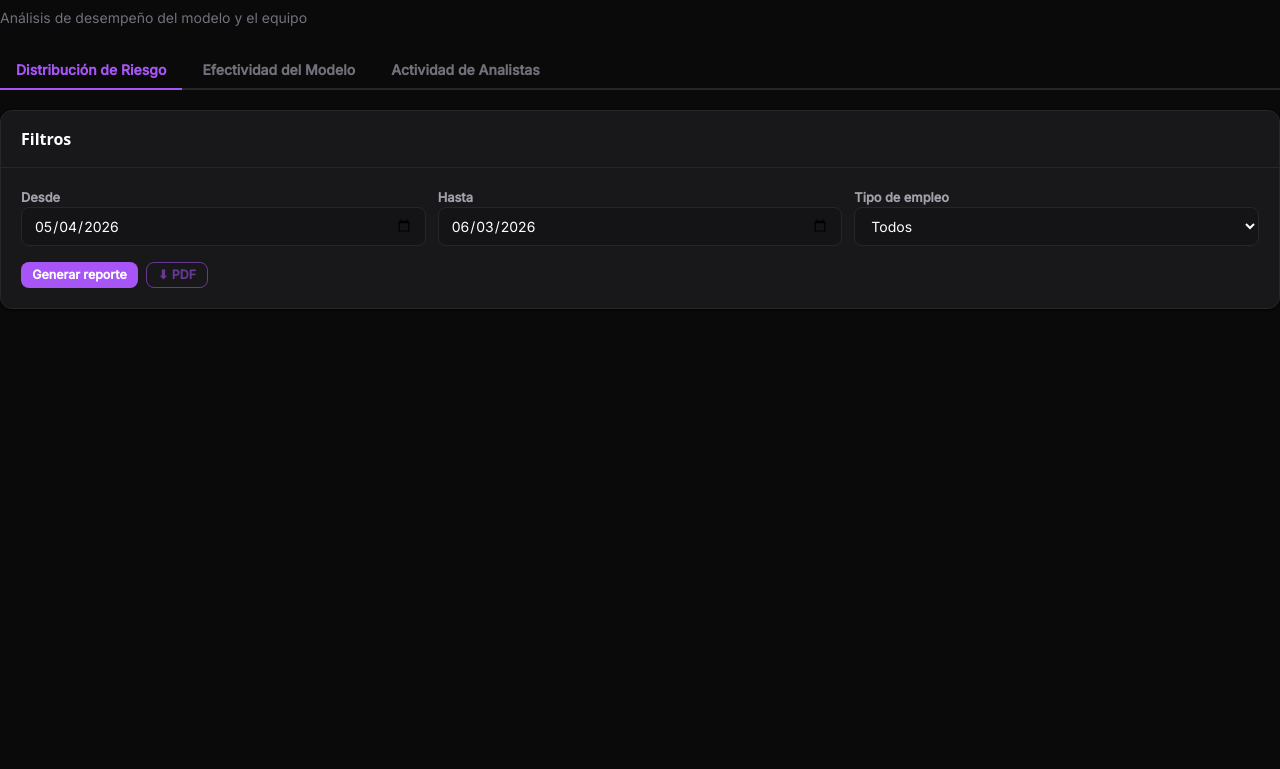
Test: RiskDistributionReport — body content › each row badge in the distribution table uses class badge-{nivel} not inline style
Click the button "Generar reporte" at (79, 275), box [21, 262, 138, 288]
(page scrolled)
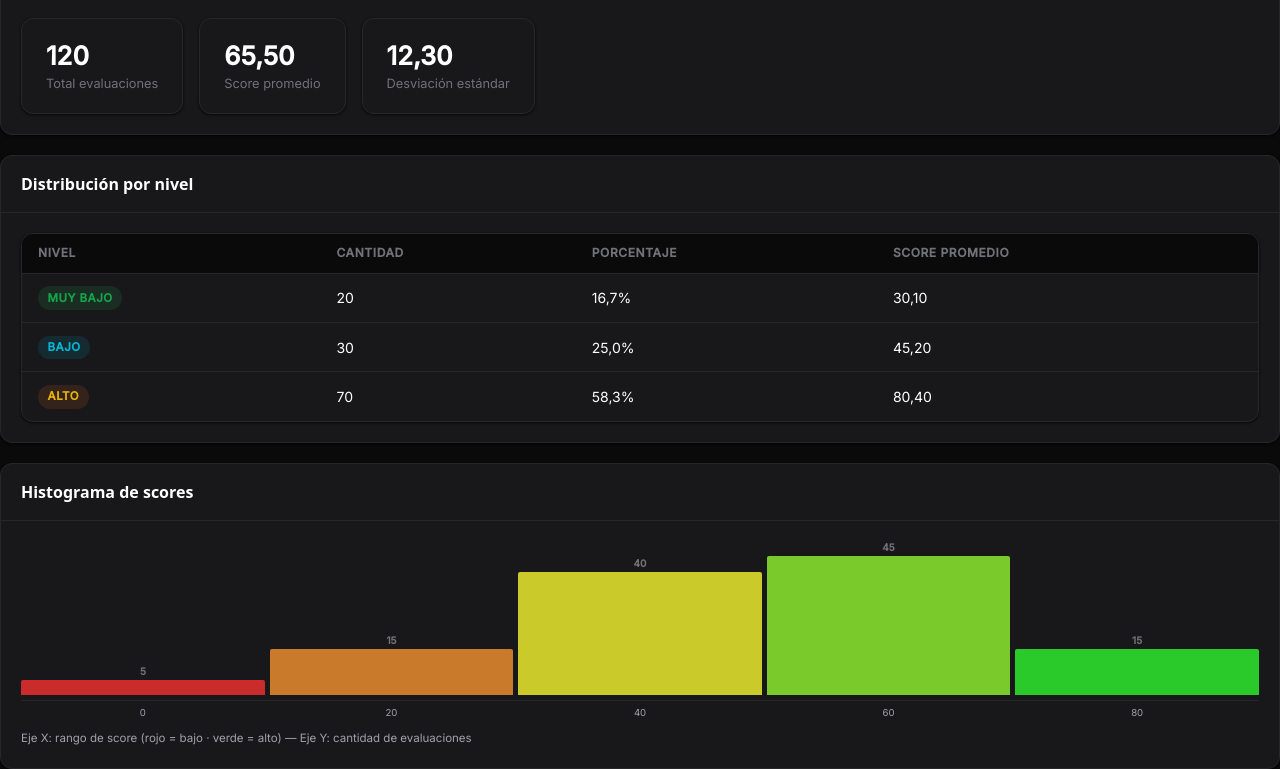
Now the text "Muy Bajo" is shown, box [38, 286, 122, 310]
Now the text "Bajo" is shown, box [38, 336, 90, 359]
Now the text "Alto" is shown, box [38, 385, 89, 409]
